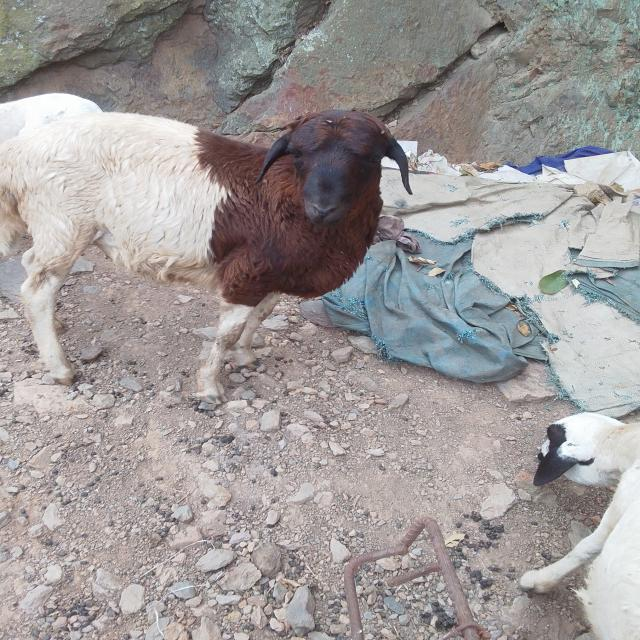sheep: (0, 88, 443, 422)
